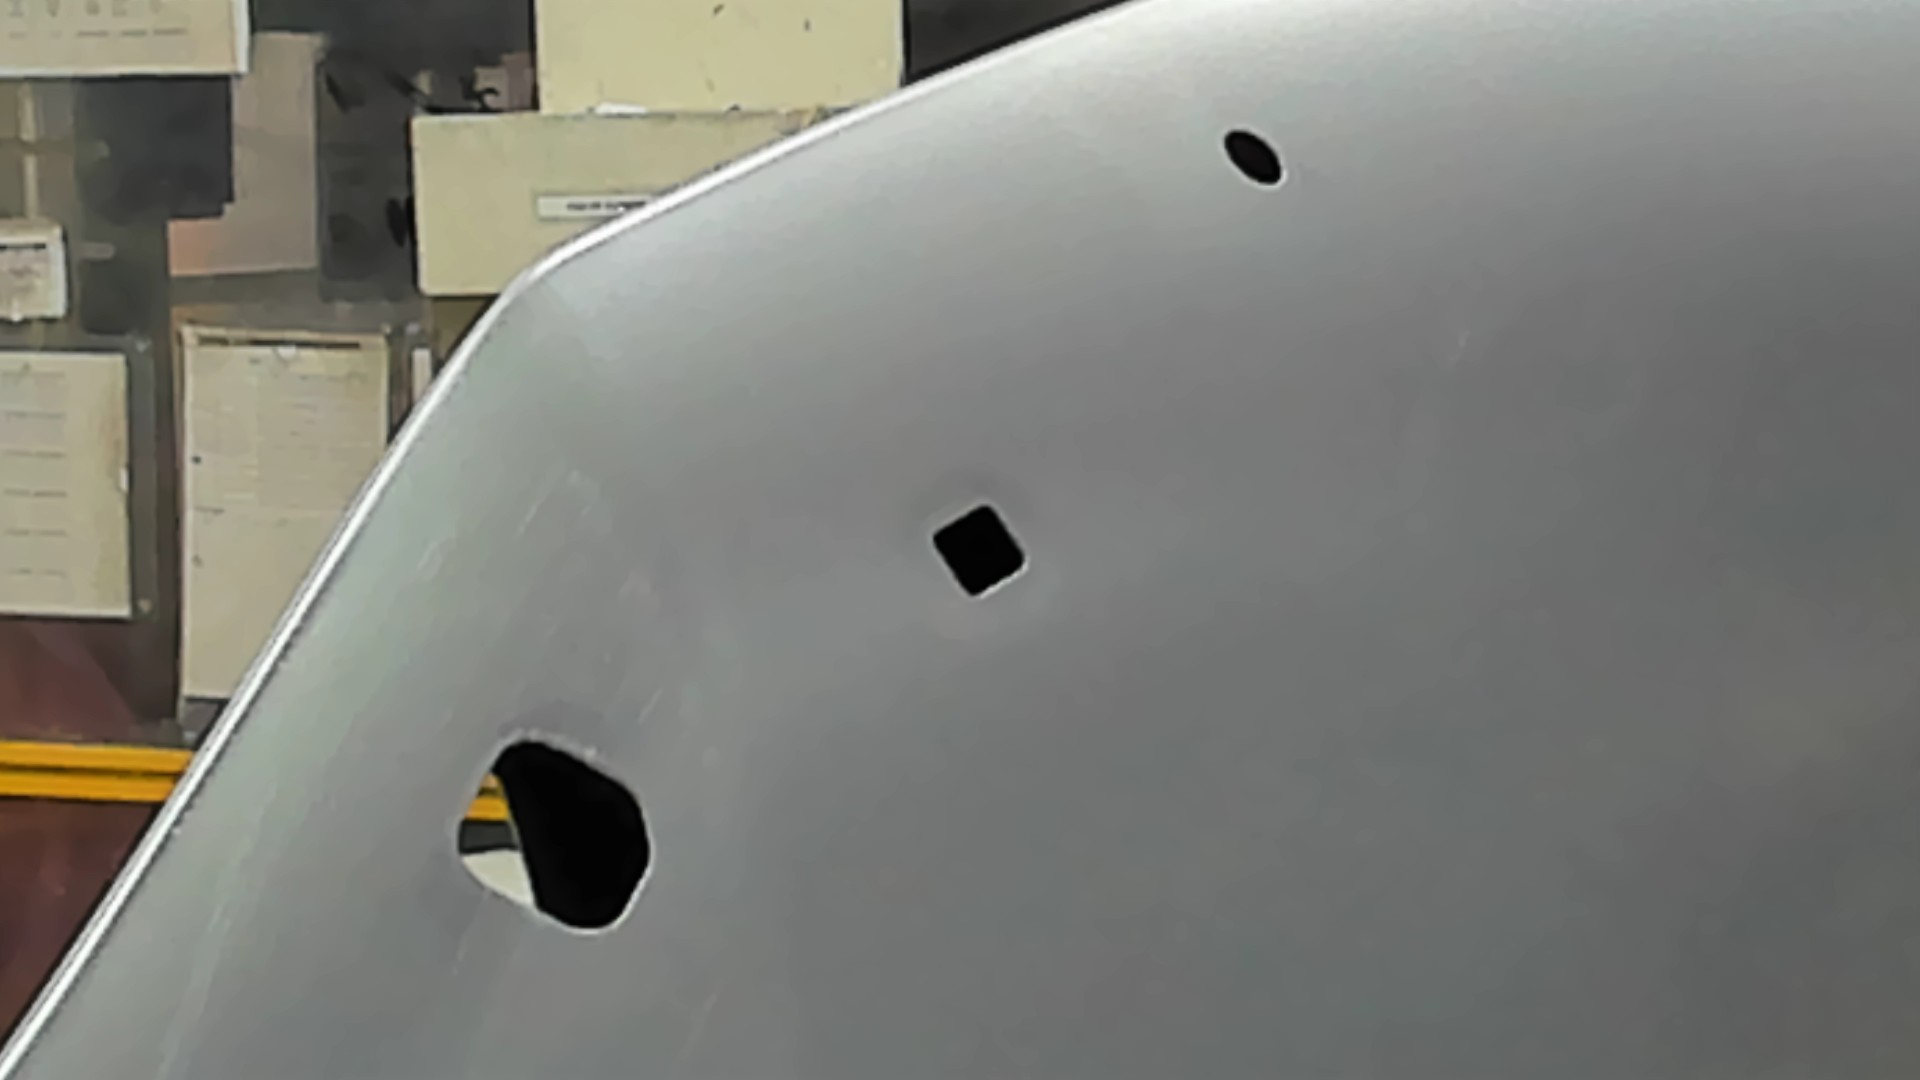chico: (1218, 124, 1287, 190)
grande: (454, 732, 661, 942)
mediano: (930, 501, 1031, 607)
